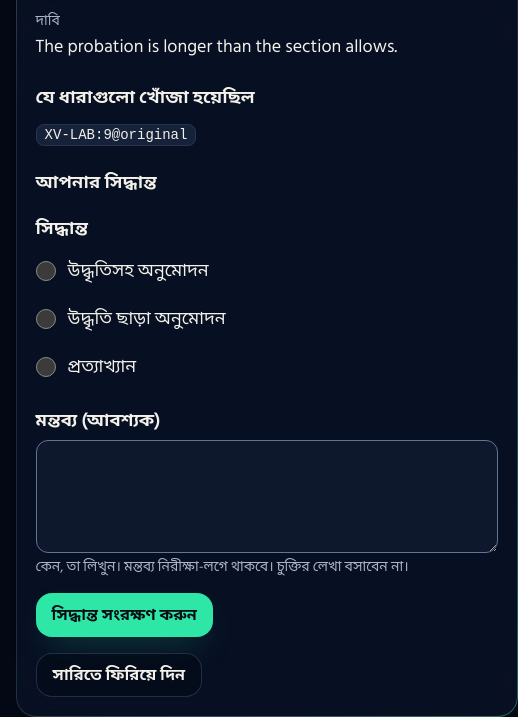
Test case: review queue (FR-60) › FR-60 FR-73 will not save a decision without a note, and says why
(page scrolled)
Click the radio button labelled "প্রত্যাখ্যান" at [46, 366], box [36,356,56,376]
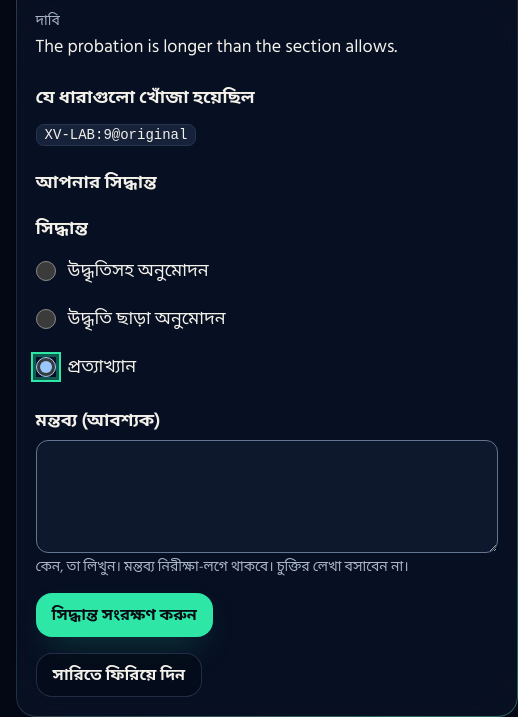
Click the button "সিদ্ধান্ত সংরক্ষণ করুন" at [124, 614], box [36,592,213,636]
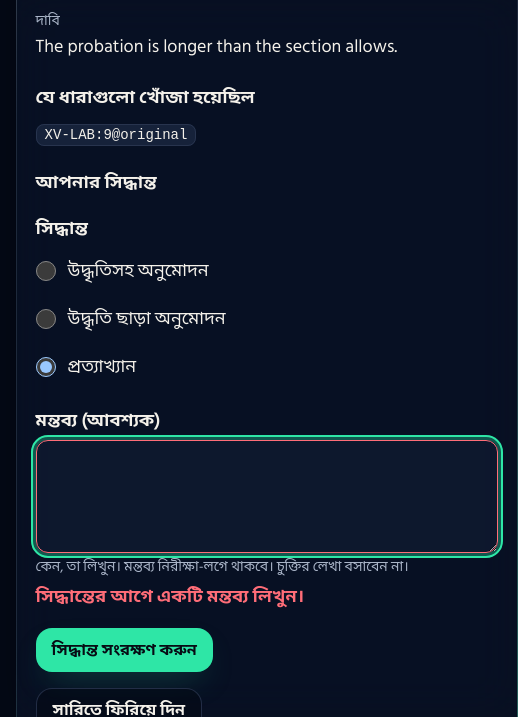
expect the text "সিদ্ধান্তের আগে একটি মন্তব্য লিখুন।" is shown: met, box [36,582,304,610]
